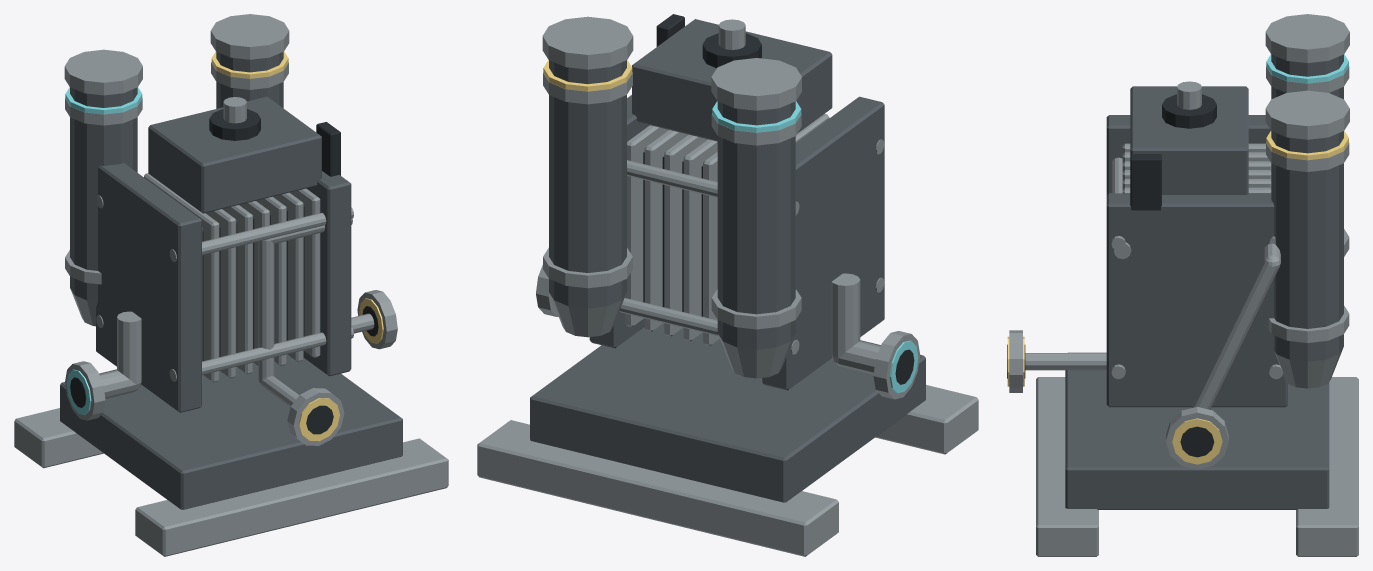
File: electrolyzer-mk1.glb
3 renders of one model, left to right at view 1: azimuth 30°, elevation 25°; view 2: azimuth 150°, elevation 25°; view 3: azimuth 270°, elevation 25°, orthographic. The views are drawn at different scales.
Parts seen in each view (by area): view 1: electrolyzer / Graphite enamel, electrolyzer / Machined steel, electrolyzer / Recesses and belt, electrolyzer / Gold outlet markings, electrolyzer / Cyan inlet markings; view 2: electrolyzer / Graphite enamel, electrolyzer / Machined steel, electrolyzer / Recesses and belt, electrolyzer / Cyan inlet markings, electrolyzer / Gold outlet markings; view 3: electrolyzer / Graphite enamel, electrolyzer / Machined steel, electrolyzer / Recesses and belt, electrolyzer / Gold outlet markings, electrolyzer / Cyan inlet markings.
Boxes of the visible parts, x1,y1,x2,y2 form: electrolyzer / Graphite enamel: [60, 52, 402, 509]; electrolyzer / Machined steel: [14, 14, 448, 556]; electrolyzer / Recesses and belt: [70, 109, 378, 434]; electrolyzer / Gold outlet markings: [211, 51, 383, 441]; electrolyzer / Cyan inlet markings: [65, 87, 142, 415]; electrolyzer / Graphite enamel: [530, 19, 925, 502]; electrolyzer / Machined steel: [477, 16, 978, 556]; electrolyzer / Recesses and belt: [643, 14, 914, 384]; electrolyzer / Cyan inlet markings: [712, 101, 918, 393]; electrolyzer / Gold outlet markings: [543, 60, 632, 304]; electrolyzer / Graphite enamel: [1065, 54, 1343, 509]; electrolyzer / Machined steel: [1009, 14, 1358, 556]; electrolyzer / Recesses and belt: [1007, 94, 1216, 457]; electrolyzer / Gold outlet markings: [1007, 131, 1348, 464]; electrolyzer / Cyan inlet markings: [1266, 54, 1348, 83].
Size of the model in its own units: 0.966 by 1.15 by 0.893.
